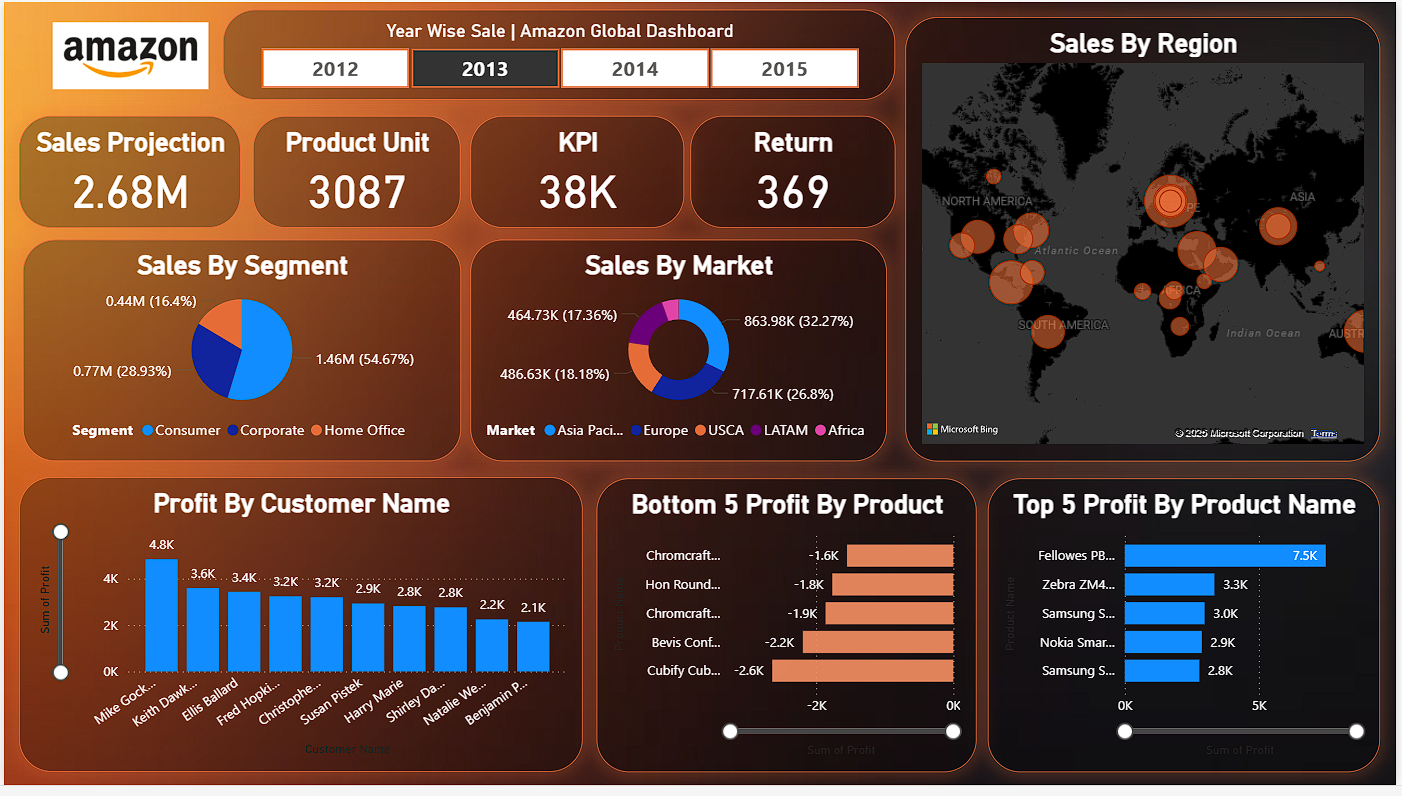

The dashboard page shown, as its layout file describes it:
{"tool":"powerbi","page":{"name":"Page 1","canvas":[1280,720],"ordinal":0},"visuals":[{"type":"slicer","title":"Year Wise Sale | Amazon Global Dashboard","fields":{"Values":["Orders.Year"]},"box":[201.4,7.1,618.6,82.9],"z":0},{"type":"card","title":"Sales Projection","fields":{"Values":["Orders.Sales"]},"box":[14.3,104.3,204.3,102.9],"z":1000},{"type":"image","box":[0,13.7,233.3,71.4],"z":2000},{"type":"card","title":"Product Unit","fields":{"Values":["Orders.Product Name"]},"box":[228.6,104.3,191.4,102.9],"z":3000},{"type":"card","title":"Return","fields":{"Values":["Orders.Ship Date"]},"box":[631.4,104.3,188.6,102.9],"z":4000},{"type":"card","title":"KPI","fields":{"Values":["Orders.Quantity"]},"box":[428.6,104.3,197.1,102.9],"z":5000},{"type":"pieChart","title":"Sales By Segment","fields":{"Y":["Orders.Sales"],"Category":["Orders.Segment"]},"box":[17.1,218.6,402.9,204.3],"z":6000},{"type":"donutChart","title":"Sales By Market","fields":{"Y":["Orders.Sales"],"Category":["Orders.Market"]},"box":[428.6,218.6,382.9,204.3],"z":7000},{"type":"columnChart","title":"Profit By Customer Name","fields":{"Category":["Orders.Customer Name"],"Y":["Orders.Profit"]},"box":[14.3,437.1,518.6,271.4],"z":8000},{"type":"map","title":"Sales By Region","fields":{"Size":["Orders.Sales"],"Category":["Orders.Region"]},"box":[828.6,14.3,437.1,408.6],"z":9000},{"type":"clusteredBarChart","title":"Top 5 Profit By Product Name","fields":{"Category":["Orders.Product Name"],"Y":["Orders.Profit"]},"box":[904.3,437.7,360.9,270.3],"z":10000},{"type":"clusteredBarChart","title":"Bottom 5 Profit By Product","fields":{"Category":["Orders.Product Name"],"Y":["Orders.Profit"]},"box":[544.8,437.7,349.9,270.3],"z":11000}]}

Visuals, with their boxes in screenshot pixels (x1, y1, x2, y2), scaled from the page's 1280x720 canvas onto the 1402x796 screenshot:
"Year Wise Sale | Amazon Global Dashboard" slicer: locate(221, 8, 898, 100)
"Sales Projection" card: locate(16, 115, 239, 229)
image: locate(0, 15, 256, 94)
"Product Unit" card: locate(250, 115, 460, 229)
"Return" card: locate(692, 115, 898, 229)
"KPI" card: locate(469, 115, 685, 229)
"Sales By Segment" pieChart: locate(19, 242, 460, 468)
"Sales By Market" donutChart: locate(469, 242, 889, 468)
"Profit By Customer Name" columnChart: locate(16, 483, 584, 783)
"Sales By Region" map: locate(908, 16, 1386, 468)
"Top 5 Profit By Product Name" clusteredBarChart: locate(990, 484, 1386, 783)
"Bottom 5 Profit By Product" clusteredBarChart: locate(597, 484, 980, 783)
